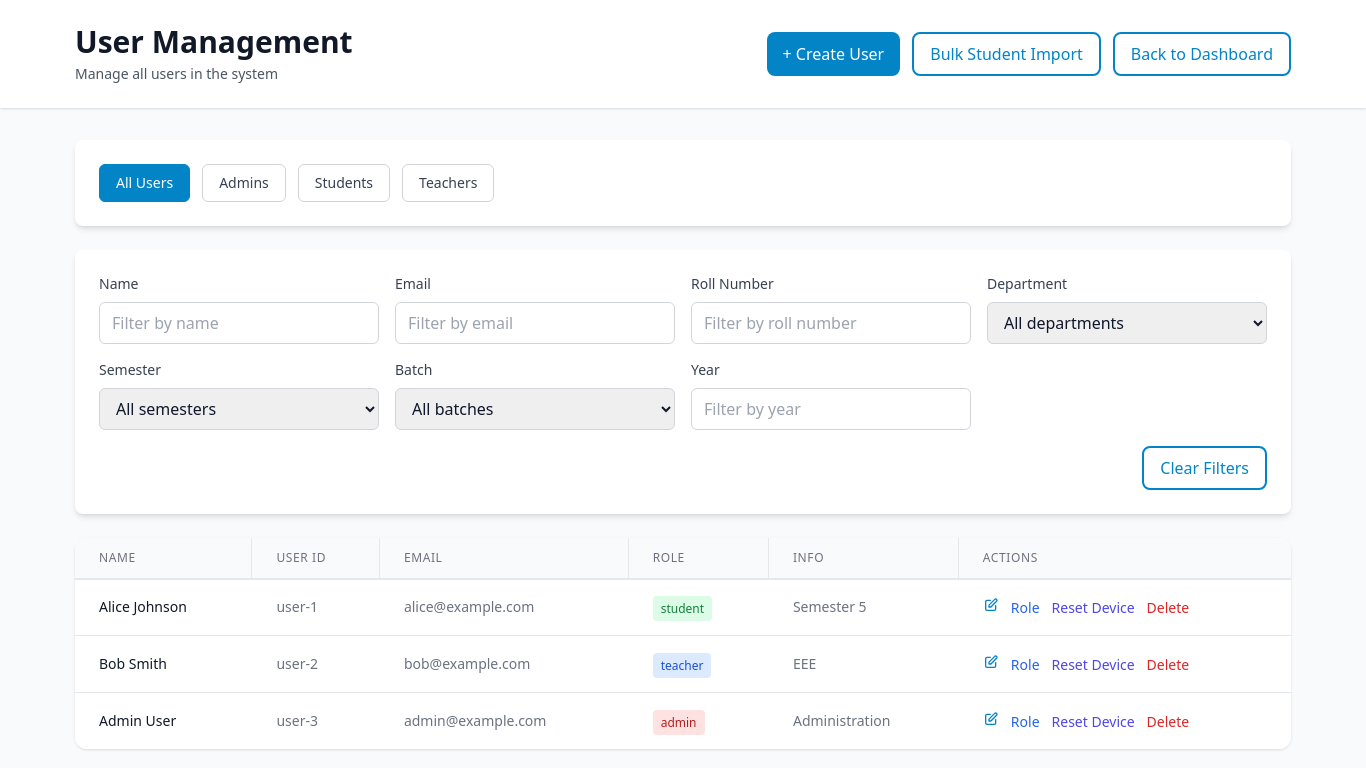
ManageUsers › forwards the semester filter to the API and narrows student results
Expected: the text "Alice Johnson" is shown, [99,597,187,616]
Select "5" in the 2nd dropdown at point(239, 409), box [99,388,379,430]
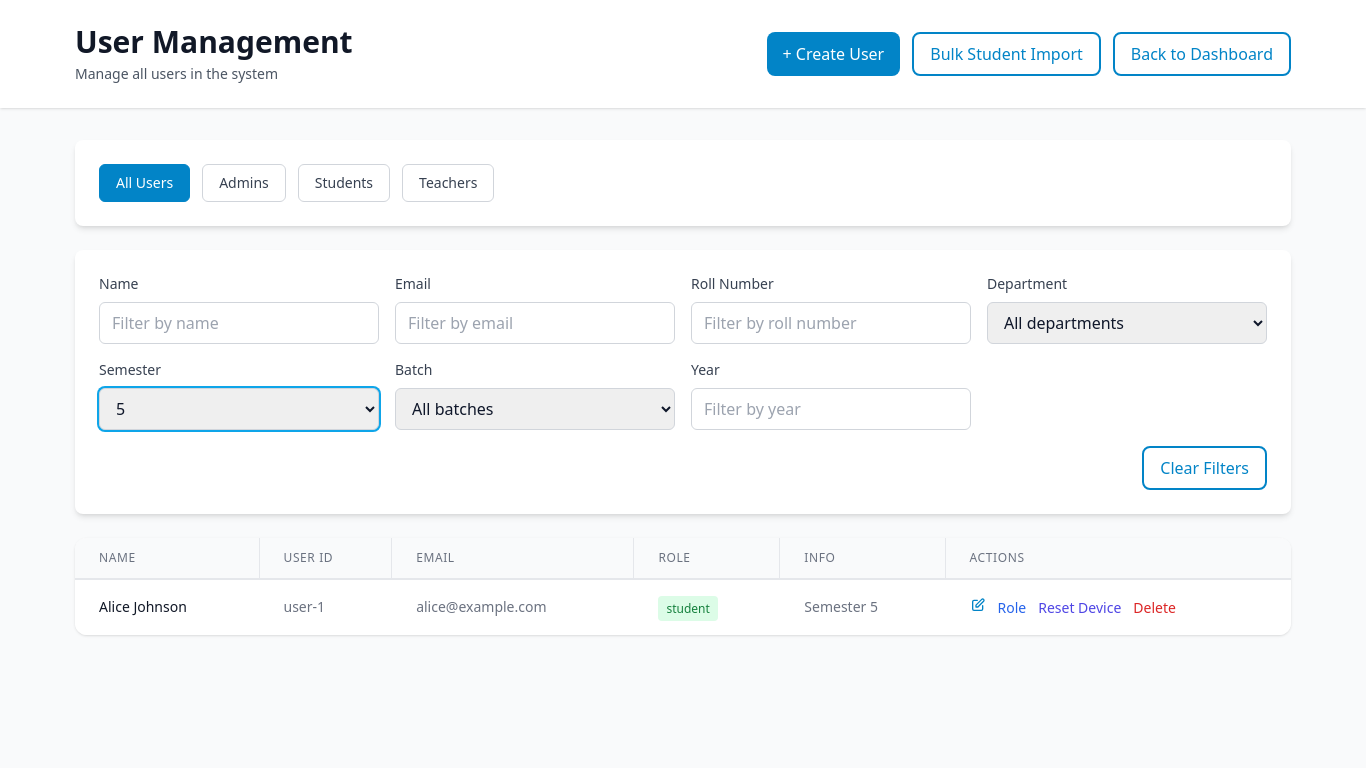
Expected: the text "Alice Johnson" is shown, [99,597,187,616]
Now the text "Bob Smith" is gone
